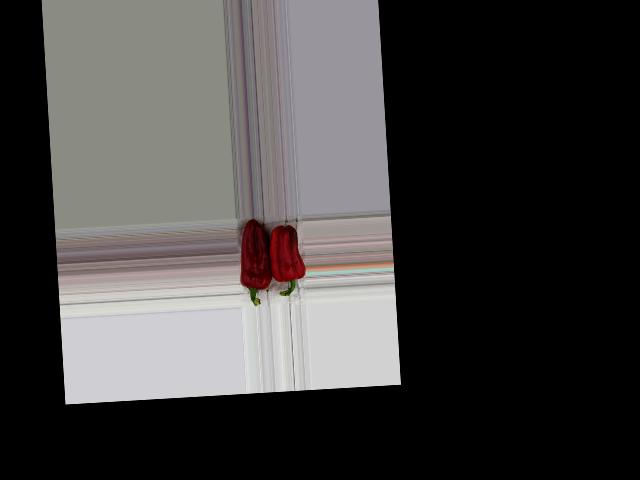bell_pepper: (237, 218, 274, 309)
